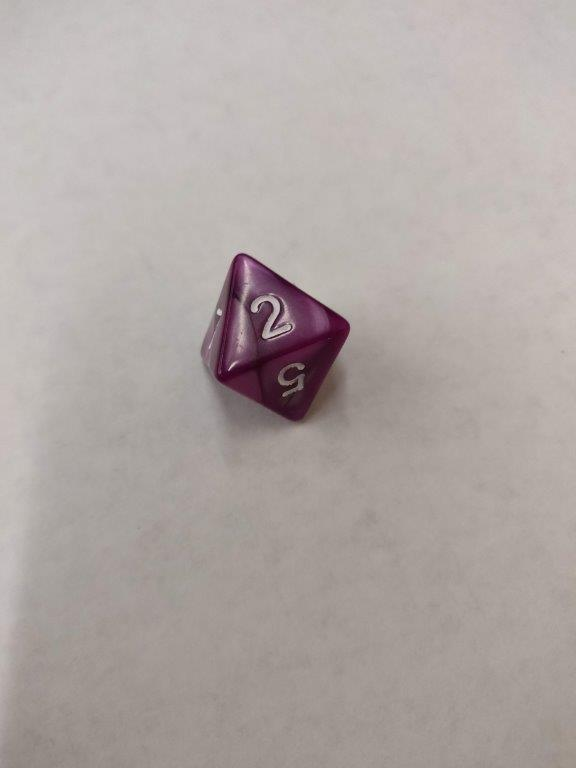d8-2: (198, 251, 351, 422)
